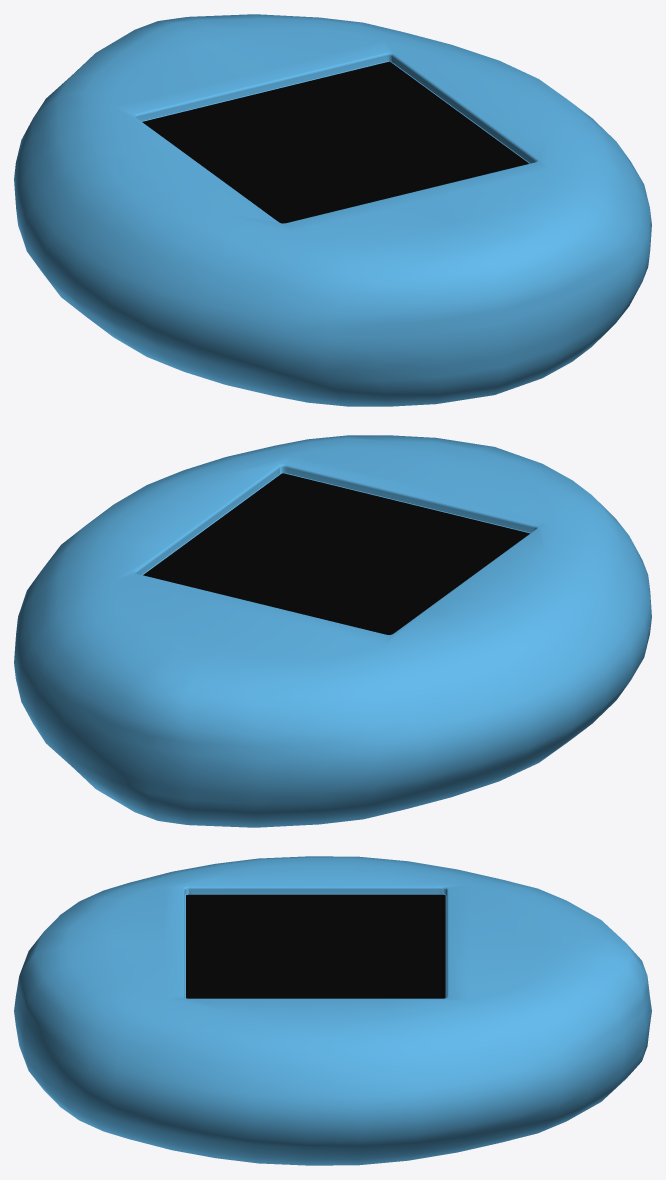
File: Body.fbx
The picture shows the model from 3 angles, top to bottom: view 1: azimuth 30°, elevation 25°; view 2: azimuth 150°, elevation 25°; view 3: azimuth 270°, elevation 25°; orthographic projection. The views are drawn at different scales.
Parts seen in each view (by area): view 1: Cube; view 2: Cube; view 3: Cube.
Part boxes in pixels (x1,y1,x2,y2): Cube: [14, 14, 651, 406]; Cube: [14, 435, 651, 827]; Cube: [14, 856, 651, 1165].
Bounding box in the file's own units: 83.12 × 23.02 × 97.25.
